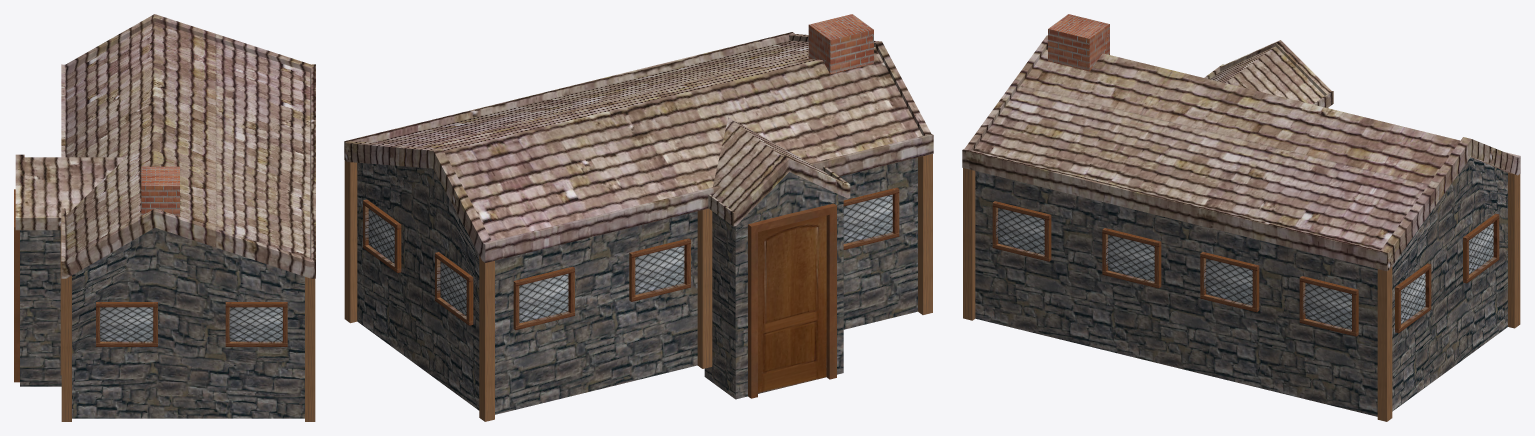
The model's file is House_06_new.fbx.
3 views of the same model, side by side, from view 1: azimuth 30°, elevation 25°; view 2: azimuth 150°, elevation 25°; view 3: azimuth 270°, elevation 25° (orthographic). The views are drawn at different scales.
Visible parts, largest first — view 1: House06_Good:polySurface1, pCube123, pCube125, pCube134, pCube130, pCube131, pCube132; view 2: House06_Good:polySurface1, pCube125 (×2), pCube123 (×2), pCube126, pCube134, pCube128, pCube133, pCube130, pCube129; view 3: House06_Good:polySurface1, pCube123 (×2), pCube125 (×2), pCube126, pCube127, pCube134, pCube129, pCube128, pCube131.
Part boxes in pixels (left/top/right/bottom): House06_Good:polySurface1: left=14, top=14, right=315, bottom=418; pCube123: left=225, top=302, right=287, bottom=346; pCube125: left=96, top=302, right=157, bottom=346; pCube134: left=141, top=166, right=179, bottom=216; pCube130: left=61, top=275, right=71, bottom=421; pCube131: left=305, top=277, right=315, bottom=421; pCube132: left=60, top=223, right=61, bottom=375; House06_Good:polySurface1: left=344, top=32, right=933, bottom=414; pCube125 (×2): left=363, top=199, right=690, bottom=301; pCube123 (×2): left=435, top=187, right=899, bottom=325; pCube126: left=513, top=266, right=574, bottom=330; pCube134: left=808, top=14, right=873, bottom=74; pCube128: left=479, top=256, right=494, bottom=421; pCube133: left=697, top=208, right=712, bottom=368; pCube130: left=918, top=154, right=932, bottom=314; pCube129: left=344, top=160, right=357, bottom=323; House06_Good:polySurface1: left=962, top=35, right=1520, bottom=416; pCube123 (×2): left=1299, top=213, right=1499, bottom=336; pCube125 (×2): left=1102, top=228, right=1431, bottom=333; pCube126: left=992, top=201, right=1051, bottom=261; pCube127: left=1200, top=252, right=1259, bottom=312; pCube134: left=1048, top=14, right=1109, bottom=71; pCube129: left=1377, top=266, right=1392, bottom=421; pCube128: left=1508, top=172, right=1520, bottom=328; pCube131: left=963, top=168, right=975, bottom=320.
Bounding box in the file's own units: 128 × 75.83 × 150.
